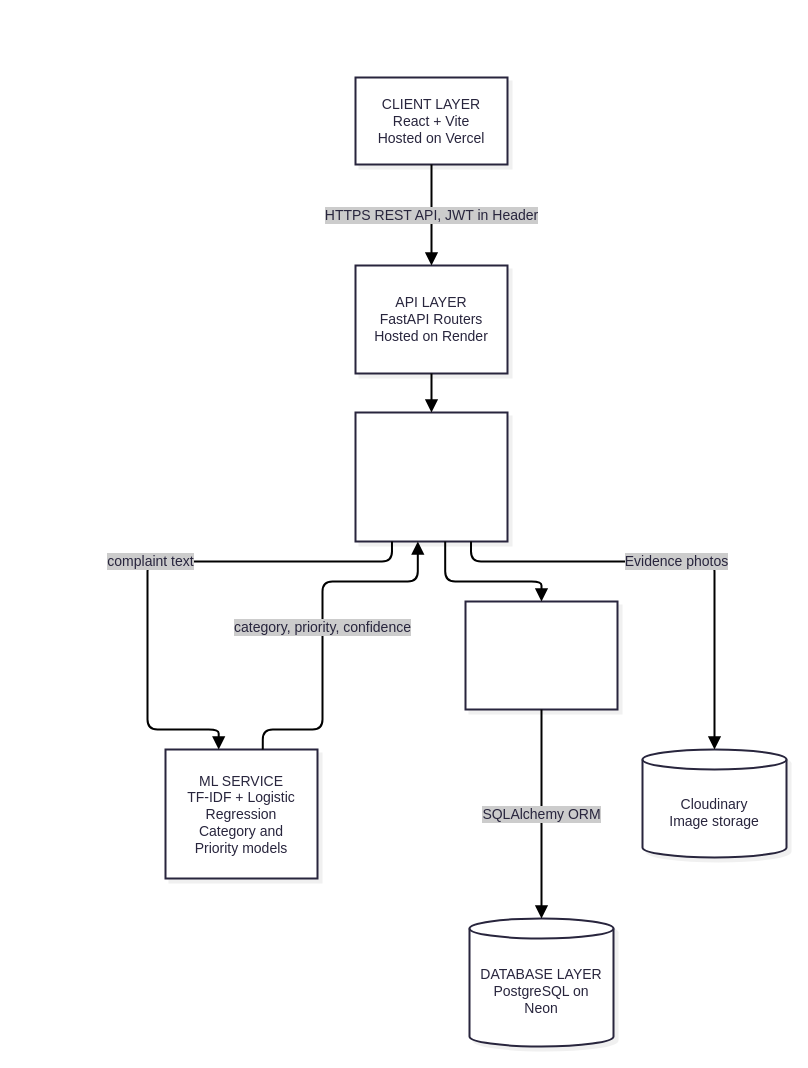
This 808x1068 diagram has some shape labels left out. The shapes that lost their labels are listed below. From the top down, each one's centre as x and y in pixels, then its label:
pixel 433 478: BUSINESS SERVICE LAYER auth, complaint, collector, admin services
pixel 543 657: REPOSITORY LAYER Database access only
